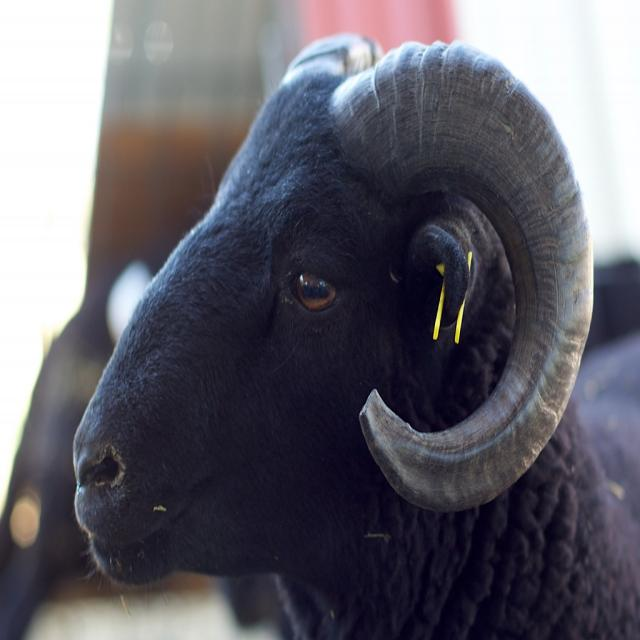Sheep: (71, 28, 640, 640)
